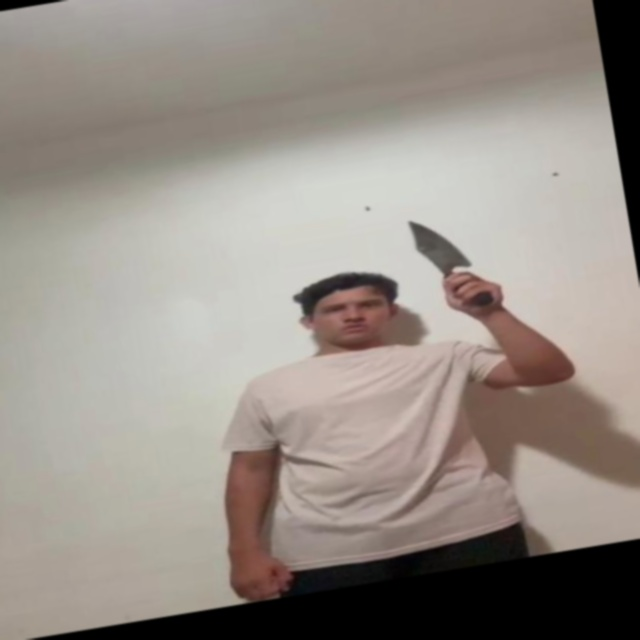Sharp-Object: (403, 209, 467, 274)
